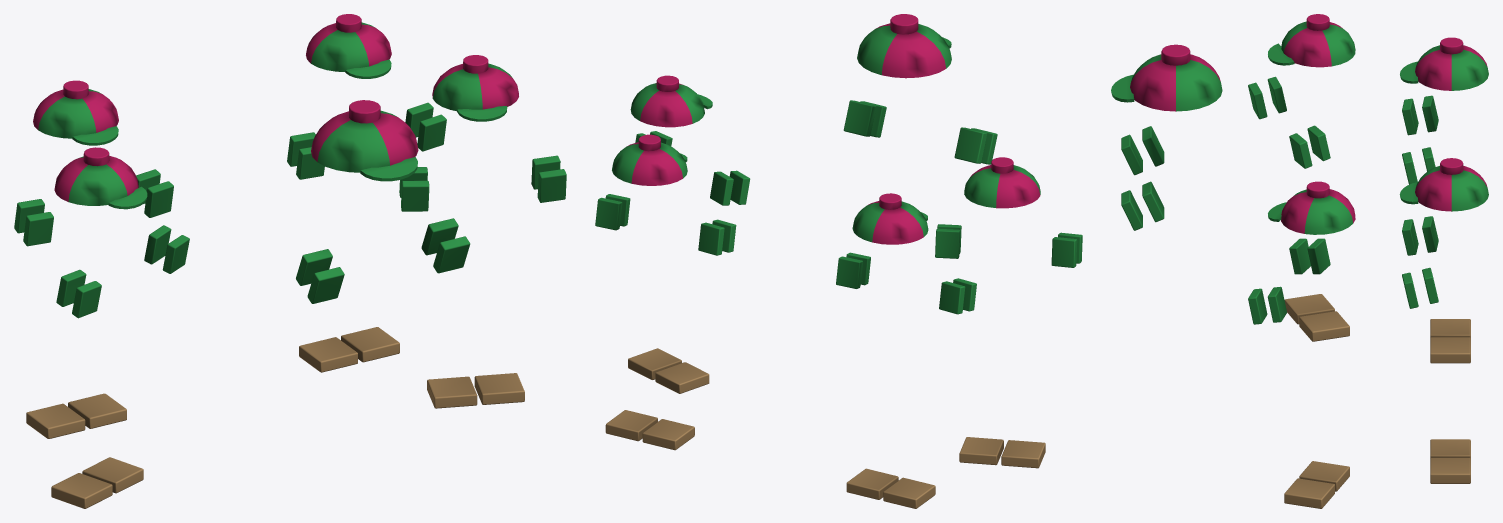
File: silks-stirrups-lod0.glb
The picture shows the model from 3 angles, left to right: view 1: azimuth 30°, elevation 25°; view 2: azimuth 150°, elevation 25°; view 3: azimuth 270°, elevation 25°; orthographic projection. The views are drawn at different scales.
Parts seen in each view (by area): view 1: cap_hat, att2_hat, att1_hat, att0_hat, att3_hat, cap_arm_l_trim, cap_arm_r_trim, att3_arm_r_trim, att3_leg_r_trim, att1_leg_r_trim, att0_leg_r_trim, att1_arm_r_trim (+11 smaller); view 2: cap_hat, att2_hat, att1_hat, att0_hat, att3_hat, cap_arm_l_trim, cap_arm_r_trim, att2_leg_r_trim, att0_leg_r_trim, att1_leg_r_trim, att2_arm_r_trim, att0_arm_r_trim (+10 smaller); view 3: cap_hat, att3_hat, att0_hat, att1_hat, att2_hat, att2_arm_r_trim, att2_leg_l_trim, att3_leg_l_trim, cap_arm_r_trim, cap_arm_l_trim, att1_leg_l_trim, att0_leg_l_trim (+11 smaller).
Boxes of the visible parts, x1=… form: cap_hat: x1=311, y1=100, x2=418, y2=181; att2_hat: x1=432, y1=55, x2=518, y2=121; att1_hat: x1=33, y1=80, x2=118, y2=145; att0_hat: x1=306, y1=14, x2=391, y2=78; att3_hat: x1=54, y1=147, x2=147, y2=209; cap_arm_l_trim: x1=421, y1=218, x2=470, y2=273; cap_arm_r_trim: x1=296, y1=249, x2=344, y2=303; att3_arm_r_trim: x1=56, y1=269, x2=101, y2=318; att3_leg_r_trim: x1=51, y1=473, x2=112, y2=508; att1_leg_r_trim: x1=26, y1=403, x2=85, y2=438; att0_leg_r_trim: x1=299, y1=337, x2=357, y2=372; att1_arm_r_trim: x1=14, y1=199, x2=53, y2=246; cap_hat: x1=857, y1=14, x2=951, y2=78; att2_hat: x1=630, y1=75, x2=712, y2=127; att1_hat: x1=852, y1=193, x2=928, y2=244; att0_hat: x1=612, y1=134, x2=687, y2=185; att3_hat: x1=964, y1=157, x2=1040, y2=208; cap_arm_l_trim: x1=843, y1=100, x2=886, y2=137; cap_arm_r_trim: x1=954, y1=127, x2=997, y2=164; att2_leg_r_trim: x1=655, y1=362, x2=709, y2=393; att0_leg_r_trim: x1=642, y1=419, x2=694, y2=450; att1_leg_r_trim: x1=883, y1=477, x2=935, y2=508; att2_arm_r_trim: x1=710, y1=170, x2=750, y2=205; att0_arm_r_trim: x1=698, y1=219, x2=736, y2=255; cap_hat: x1=1111, y1=44, x2=1222, y2=111; att3_hat: x1=1268, y1=14, x2=1355, y2=67; att0_hat: x1=1399, y1=158, x2=1488, y2=211; att1_hat: x1=1400, y1=37, x2=1488, y2=90; att2_hat: x1=1268, y1=181, x2=1355, y2=234; att2_arm_r_trim: x1=1289, y1=238, x2=1330, y2=274; att2_leg_l_trim: x1=1284, y1=478, x2=1334, y2=508; att3_leg_l_trim: x1=1299, y1=311, x2=1349, y2=341; cap_arm_r_trim: x1=1121, y1=126, x2=1164, y2=175; cap_arm_l_trim: x1=1121, y1=181, x2=1164, y2=230; att1_leg_l_trim: x1=1430, y1=337, x2=1470, y2=363; att0_leg_l_trim: x1=1430, y1=458, x2=1470, y2=483.
Bounding box in the file's own units: 2.28 × 1.71 × 1.64.
